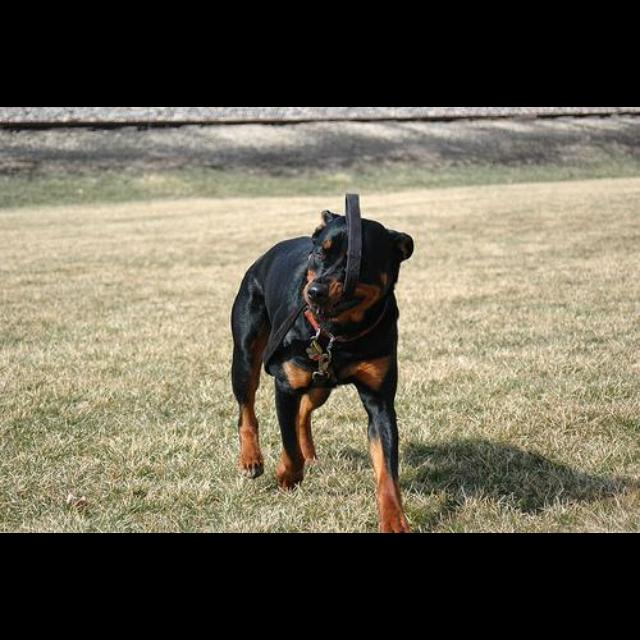rottweiler: (229, 208, 415, 533)
